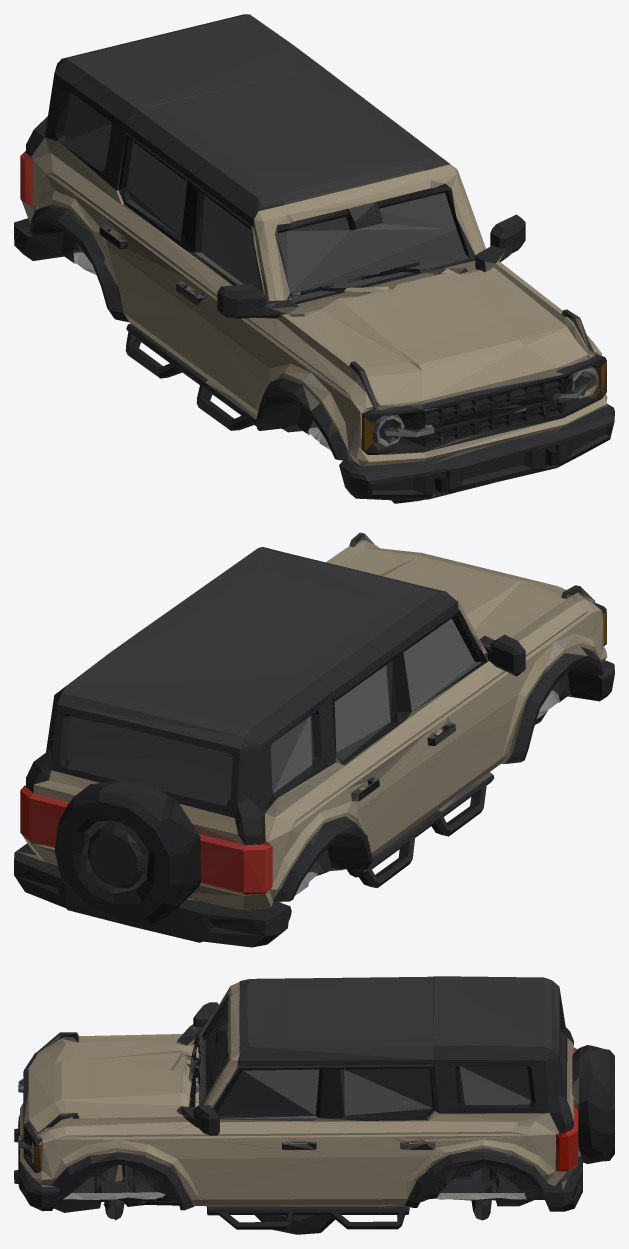
Rendered from bronco_engine.glb.
3 renders of one model, top to bottom at view 1: azimuth 30°, elevation 25°; view 2: azimuth 150°, elevation 25°; view 3: azimuth 270°, elevation 25°, orthographic. The views are drawn at different scales.
Parts seen in each view (by area): view 1: Body; view 2: Body; view 3: Body, Wheel.
Part boxes in pixels (x1,y1,x2,y2): Body: (14, 14, 614, 503); Body: (14, 532, 614, 947); Body: (14, 976, 614, 1229); Wheel: (255, 1215, 335, 1234).
Size of the model in its own units: 2.19 by 1.94 by 4.85.
